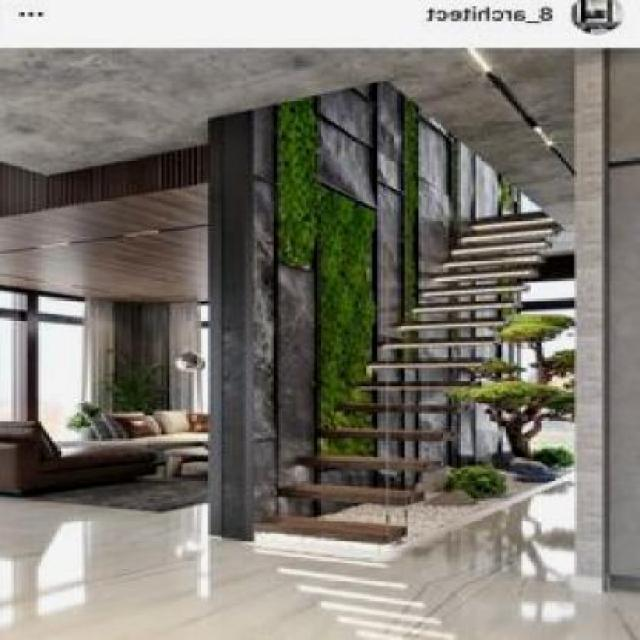stair: (240, 146, 605, 546)
